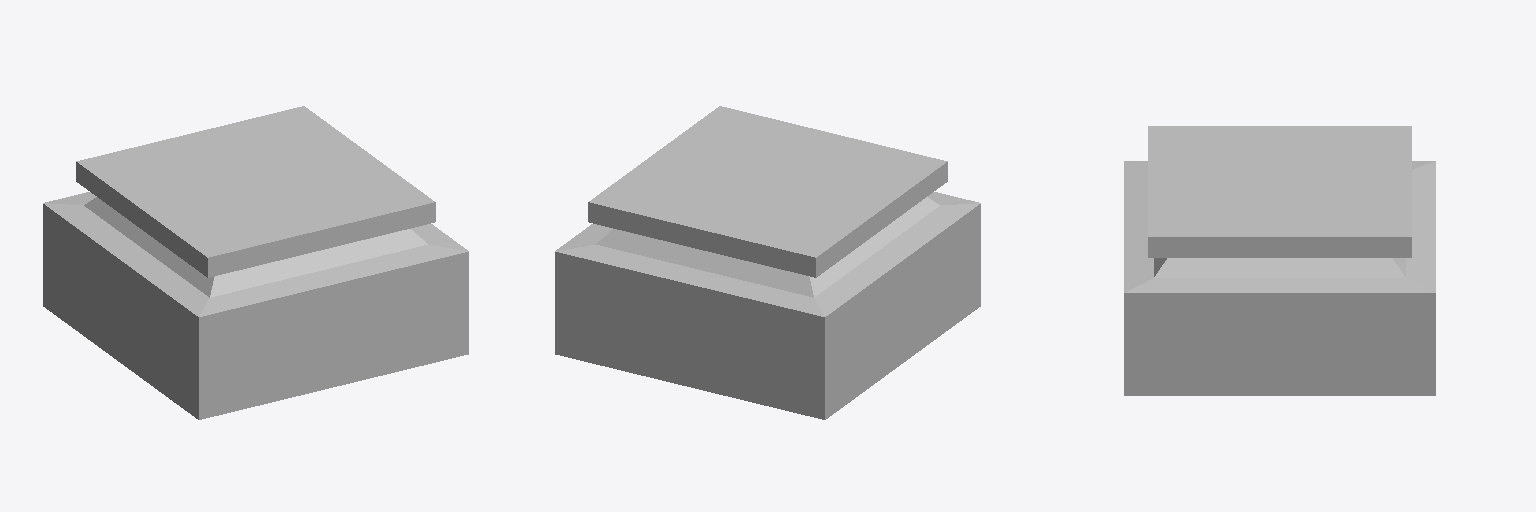
Rendered from plate_jump.obj.
3 views of the same model, side by side, from view 1: azimuth 30°, elevation 25°; view 2: azimuth 150°, elevation 25°; view 3: azimuth 270°, elevation 25° (orthographic).
Visible parts, largest first — view 1: Cube; view 2: Cube; view 3: Cube.
Part boxes in pixels (left/top/right/bottom): Cube: left=43, top=106, right=468, bottom=419; Cube: left=555, top=106, right=980, bottom=419; Cube: left=1124, top=126, right=1435, bottom=395.
Bounding box in the file's own units: 1.5 × 0.786 × 1.5.